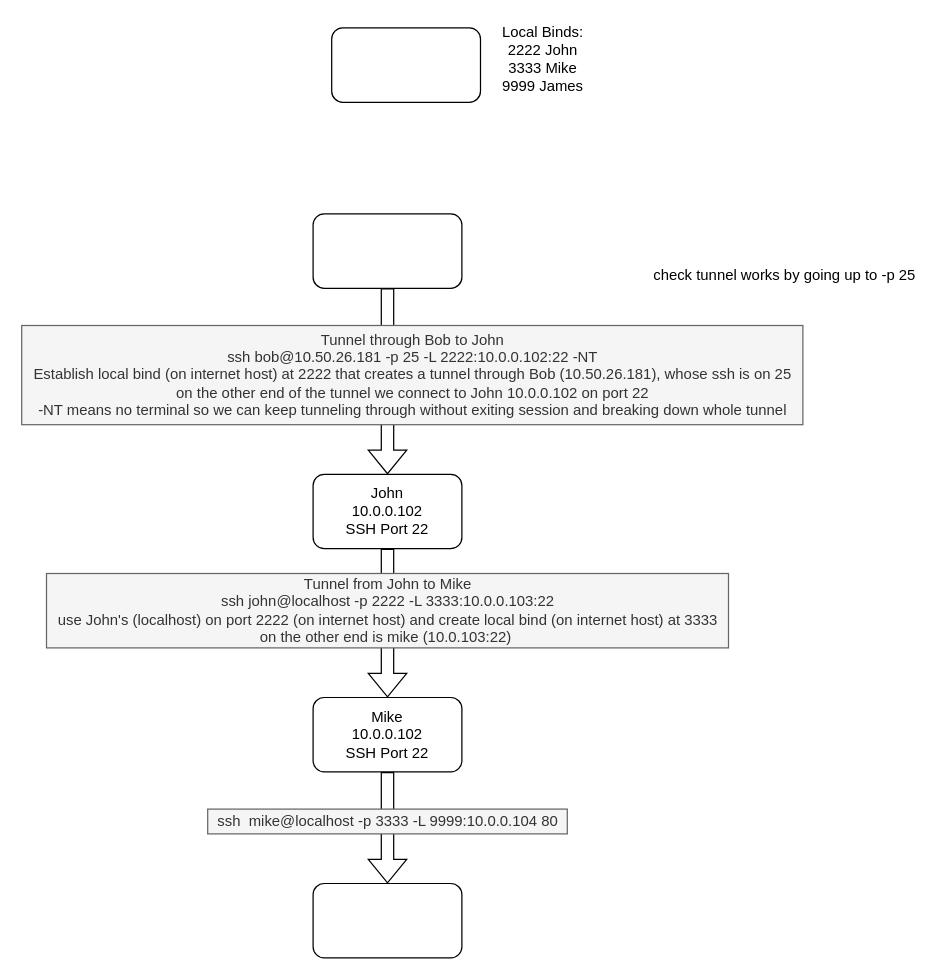
Image size: 949x980. Some labels were removed from this diagram. Here are the shapes that lost their labels. From the top down, the centre of each, then its label:
At [405,64]: "Internet Host 10.10.0.40 SSH Port 22".
At [387,250]: "Bob 10.50.26.181 SSH Port 25".
At [387,920]: "James 10.0.0.104 SSH Port 22 ONLY at port 80".
